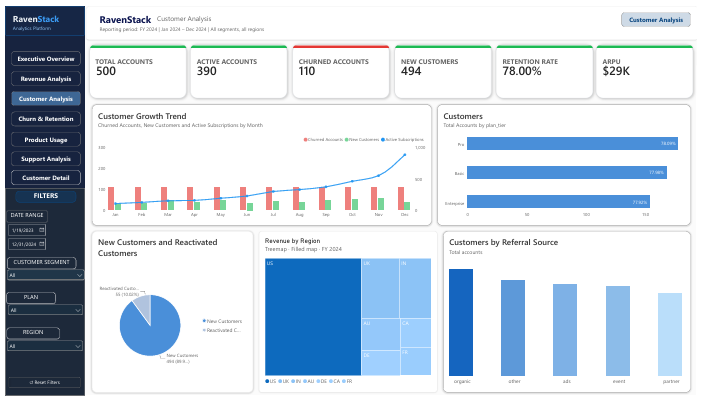

This screenshot's page, from the dashboard's own definition file:
{"tool":"powerbi","page":{"name":"Customer Analysis","canvas":[1920,1080],"ordinal":2},"visuals":[{"type":"shape","box":[0,-8,220,1088],"z":0},{"type":"shape","box":[224,0,1701,93],"z":0,"group":"g7"},{"type":"group","id":"g1","title":"Group 5","box":[224,96,352,160],"z":0,"group":"g8"},{"type":"shape","box":[224,96,288,168],"z":0,"group":"g15"},{"type":"shape","box":[504,96,288,168],"z":0,"group":"g16"},{"type":"shape","box":[788,96,288,168],"z":0,"group":"g17"},{"type":"shape","box":[1072,96,288,168],"z":0,"group":"g18"},{"type":"shape","box":[1354,96,288,168],"z":0,"group":"g19"},{"type":"shape","box":[1632,96,288,168],"z":0,"group":"g20"},{"type":"slicer","fields":{"Values":["public accounts.industry"]},"box":[0,726,224,48],"z":0,"group":"g27"},{"type":"slicer","fields":{"Values":["public accounts.plan_tier"]},"box":[3,823,216,48],"z":0,"group":"g29"},{"type":"slicer","fields":{"Values":["public accounts.country"]},"box":[0,923,219,48],"z":0,"group":"g30"},{"type":"textbox","box":[0,0,224,80],"z":1000},{"type":"textbox","box":[261,16,144,64],"z":1000,"group":"g7"},{"type":"group","id":"g2","title":"Group 4","box":[504,96,288,160],"z":1000,"group":"g8"},{"type":"textbox","box":[4,697,192,32],"z":1000,"group":"g27"},{"type":"textbox","box":[2,794,137,32],"z":1000,"group":"g29"},{"type":"textbox","box":[3,892,147,32],"z":1000,"group":"g30"},{"type":"textbox","box":[421,21,240,48],"z":2000,"group":"g7"},{"type":"textbox","box":[0,32,224,48],"z":2000},{"type":"group","id":"g3","title":"Group 4","box":[788,96,288,160],"z":2000,"group":"g8"},{"type":"textbox","box":[261,54,784,32],"z":3000,"group":"g7"},{"type":"group","id":"g4","title":"Group 4","box":[1072,96,288,160],"z":3000,"group":"g8"},{"type":"actionButton","box":[16,124,192,40],"z":3000,"group":"g21"},{"type":"group","id":"g5","title":"Group 4","box":[1354,96,288,160],"z":4000,"group":"g8"},{"type":"actionButton","box":[16,180,192,40],"z":4000,"group":"g21"},{"type":"group","id":"g6","title":"Group 4","box":[1632,96,288,160],"z":5000,"group":"g8"},{"type":"actionButton","box":[16,235,192,40],"z":5000,"group":"g21"},{"type":"actionButton","box":[16,292,192,40],"z":7000,"group":"g21"},{"type":"actionButton","box":[16,348,192,40],"z":8000,"group":"g21"},{"type":"actionButton","box":[16,403,192,40],"z":9000,"group":"g21"},{"type":"actionButton","box":[16,455,192,40],"z":10000,"group":"g21"},{"type":"treemap","title":"Revenue by Region","fields":{"Group":["public accounts.country"],"Values":["public accounts.Total Accounts"]},"box":[704,624,496,448],"z":10000},{"type":"group","id":"g7","title":"Group 8","box":[224,0,1696,96],"z":11000},{"type":"lineClusteredColumnComboChart","title":"Customer Growth Trend","fields":{"Y":["public accounts.Churned Accounts","DimDate.New Customers"],"Y2":["public accounts.Active Subscriptions"],"Category":["DimDate.Month"]},"box":[240,272,944,336],"z":12000},{"type":"group","id":"g8","title":"Group 6","box":[224,96,1696,160],"z":13000},{"type":"clusteredBarChart","title":"Customers","fields":{"Category":["public accounts.plan_tier"],"Y":["public accounts.Total Accounts"]},"box":[1200,272,704,336],"z":14000},{"type":"cardVisual","fields":{"Data":["public accounts.Total Accounts"]},"box":[235.5,107.6,266.1,134.4],"z":14001,"group":"g15"},{"type":"cardVisual","fields":{"Data":["public accounts.Active Accounts"]},"box":[515.5,107.6,266.1,134.4],"z":14001,"group":"g16"},{"type":"cardVisual","fields":{"Data":["public accounts.Churned Accounts"]},"box":[799.5,107.6,266.1,134.4],"z":14001,"group":"g17"},{"type":"cardVisual","fields":{"Data":["DimDate.New Customers"]},"box":[1083.5,107.6,266.1,134.4],"z":14001,"group":"g18"},{"type":"cardVisual","fields":{"Data":["DimDate.Retention Rate"]},"box":[1365.5,107.6,266.1,134.4],"z":14001,"group":"g19"},{"type":"cardVisual","fields":{"Data":["public accounts.ARPU"]},"box":[1643.5,107.6,266.1,134.4],"z":14001,"group":"g20"},{"type":"group","id":"g9","title":"Group 2","box":[224,96,288,168],"z":14011,"group":"g28"},{"type":"group","id":"g10","title":"Group 2","box":[504,96,288,168],"z":14011,"group":"g22"},{"type":"group","id":"g11","title":"Group 2","box":[788,96,288,168],"z":14011,"group":"g23"},{"type":"group","id":"g12","title":"Group 2","box":[1072,96,288,168],"z":14011,"group":"g24"},{"type":"group","id":"g13","title":"Group 2","box":[1354,96,288,168],"z":14011,"group":"g25"},{"type":"group","id":"g14","title":"Group 2","box":[1632,96,288,168],"z":14011,"group":"g26"},{"type":"group","id":"g15","title":"Group 3","box":[224,96,288,168],"z":14012,"group":"g9"},{"type":"group","id":"g16","title":"Group 3","box":[504,96,288,168],"z":14012,"group":"g10"},{"type":"group","id":"g17","title":"Group 3","box":[788,96,288,168],"z":14012,"group":"g11"},{"type":"group","id":"g18","title":"Group 3","box":[1072,96,288,168],"z":14012,"group":"g12"},{"type":"group","id":"g19","title":"Group 3","box":[1354,96,288,168],"z":14012,"group":"g13"},{"type":"group","id":"g20","title":"Group 3","box":[1632,96,288,168],"z":14012,"group":"g14"},{"type":"pieChart","fields":{"Y":["DimDate.New Customers","DimDate.Reactivated Customers"]},"box":[240,624,448,448],"z":15000},{"type":"clusteredColumnChart","title":"Customers by Referral Source","fields":{"Category":["public accounts.referral_source"],"Y":["public accounts.Total Accounts"]},"box":[1216,624,688,448],"z":16000},{"type":"group","id":"g21","title":"Group 6","box":[0,124,224,956],"z":16001},{"type":"actionButton","box":[1712,16,192,40],"z":16002},{"type":"shape","box":[0,0,219,80],"z":16003},{"type":"group","id":"g22","title":"Group 1","box":[504,96,288,168],"z":19000,"group":"g2"},{"type":"group","id":"g23","title":"Group 1","box":[788,96,288,168],"z":19000,"group":"g3"},{"type":"group","id":"g24","title":"Group 1","box":[1072,96,288,168],"z":19000,"group":"g4"},{"type":"group","id":"g25","title":"Group 1","box":[1354,96,288,168],"z":19000,"group":"g5"},{"type":"group","id":"g26","title":"Group 1","box":[1632,96,288,168],"z":19000,"group":"g6"},{"type":"shape","box":[0,504,220,576],"z":21000,"group":"g21"},{"type":"textbox","box":[28,512,168,32],"z":22000,"group":"g21"},{"type":"slicer","fields":{"Values":["DimDate.Date"]},"box":[0,600,222,77],"z":23000,"group":"g21"},{"type":"textbox","box":[3,567,113,32],"z":24000,"group":"g21"},{"type":"group","id":"g27","title":"Group 5","box":[0,697,224,77],"z":25000,"group":"g21"},{"type":"group","id":"g28","title":"Group 1","box":[224,96,288,168],"z":26000,"group":"g1"},{"type":"group","id":"g29","title":"Group 5","box":[2,794,217,77],"z":26000,"group":"g21"},{"type":"textbox","box":[249,138,336,72],"z":27000,"group":"g1"},{"type":"textbox","box":[531,138,240,48],"z":27000,"group":"g2"},{"type":"textbox","box":[815,138,240,48],"z":27000,"group":"g3"},{"type":"textbox","box":[1099,138,240,48],"z":27000,"group":"g4"},{"type":"textbox","box":[1381,138,240,48],"z":27000,"group":"g5"},{"type":"textbox","box":[1659,138,240,48],"z":27000,"group":"g6"},{"type":"group","id":"g30","title":"Group 5","box":[0,892,219,79],"z":27000,"group":"g21"},{"type":"actionButton","box":[0,1020,217,48],"z":28000,"group":"g21"}]}

Visuals, with their boxes on the page's 1920x1080 design canvas (x1, y1, x2, y2). These are canvas units, not pixel positions in the 703x401 screenshot, which may show the page scaled, cropped or inside an application window:
shape: [0, -8, 220, 1080]
shape: [224, 0, 1925, 93]
"Group 5" group: [224, 96, 576, 256]
shape: [224, 96, 512, 264]
shape: [504, 96, 792, 264]
shape: [788, 96, 1076, 264]
shape: [1072, 96, 1360, 264]
shape: [1354, 96, 1642, 264]
shape: [1632, 96, 1920, 264]
slicer - public accounts.industry: [0, 726, 224, 774]
slicer - public accounts.plan_tier: [3, 823, 219, 871]
slicer - public accounts.country: [0, 923, 219, 971]
textbox: [0, 0, 224, 80]
textbox: [261, 16, 405, 80]
"Group 4" group: [504, 96, 792, 256]
textbox: [4, 697, 196, 729]
textbox: [2, 794, 139, 826]
textbox: [3, 892, 150, 924]
textbox: [421, 21, 661, 69]
textbox: [0, 32, 224, 80]
"Group 4" group: [788, 96, 1076, 256]
textbox: [261, 54, 1045, 86]
"Group 4" group: [1072, 96, 1360, 256]
actionButton: [16, 124, 208, 164]
"Group 4" group: [1354, 96, 1642, 256]
actionButton: [16, 180, 208, 220]
"Group 4" group: [1632, 96, 1920, 256]
actionButton: [16, 235, 208, 275]
actionButton: [16, 292, 208, 332]
actionButton: [16, 348, 208, 388]
actionButton: [16, 403, 208, 443]
actionButton: [16, 455, 208, 495]
"Revenue by Region" treemap: [704, 624, 1200, 1072]
"Group 8" group: [224, 0, 1920, 96]
"Customer Growth Trend" lineClusteredColumnComboChart: [240, 272, 1184, 608]
"Group 6" group: [224, 96, 1920, 256]
"Customers" clusteredBarChart: [1200, 272, 1904, 608]
cardVisual - public accounts.Total Accounts: [236, 108, 502, 242]
cardVisual - public accounts.Active Accounts: [516, 108, 782, 242]
cardVisual - public accounts.Churned Accounts: [800, 108, 1066, 242]
cardVisual - DimDate.New Customers: [1084, 108, 1350, 242]
cardVisual - DimDate.Retention Rate: [1366, 108, 1632, 242]
cardVisual - public accounts.ARPU: [1644, 108, 1910, 242]
"Group 2" group: [224, 96, 512, 264]
"Group 2" group: [504, 96, 792, 264]
"Group 2" group: [788, 96, 1076, 264]
"Group 2" group: [1072, 96, 1360, 264]
"Group 2" group: [1354, 96, 1642, 264]
"Group 2" group: [1632, 96, 1920, 264]
"Group 3" group: [224, 96, 512, 264]
"Group 3" group: [504, 96, 792, 264]
"Group 3" group: [788, 96, 1076, 264]
"Group 3" group: [1072, 96, 1360, 264]
"Group 3" group: [1354, 96, 1642, 264]
"Group 3" group: [1632, 96, 1920, 264]
pieChart - DimDate.New Customers x DimDate.Reactivated Customers: [240, 624, 688, 1072]
"Customers by Referral Source" clusteredColumnChart: [1216, 624, 1904, 1072]
"Group 6" group: [0, 124, 224, 1080]
actionButton: [1712, 16, 1904, 56]
shape: [0, 0, 219, 80]
"Group 1" group: [504, 96, 792, 264]
"Group 1" group: [788, 96, 1076, 264]
"Group 1" group: [1072, 96, 1360, 264]
"Group 1" group: [1354, 96, 1642, 264]
"Group 1" group: [1632, 96, 1920, 264]
shape: [0, 504, 220, 1080]
textbox: [28, 512, 196, 544]
slicer - DimDate.Date: [0, 600, 222, 677]
textbox: [3, 567, 116, 599]
"Group 5" group: [0, 697, 224, 774]
"Group 1" group: [224, 96, 512, 264]
"Group 5" group: [2, 794, 219, 871]
textbox: [249, 138, 585, 210]
textbox: [531, 138, 771, 186]
textbox: [815, 138, 1055, 186]
textbox: [1099, 138, 1339, 186]
textbox: [1381, 138, 1621, 186]
textbox: [1659, 138, 1899, 186]
"Group 5" group: [0, 892, 219, 971]
actionButton: [0, 1020, 217, 1068]
